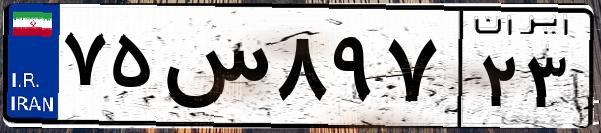2: (475, 38, 525, 113)
3: (525, 38, 570, 115)
5: (110, 28, 158, 98)
7: (385, 28, 445, 110), (57, 26, 110, 100)
8: (270, 28, 330, 110)
9: (330, 28, 385, 110)
س: (158, 20, 270, 120)
